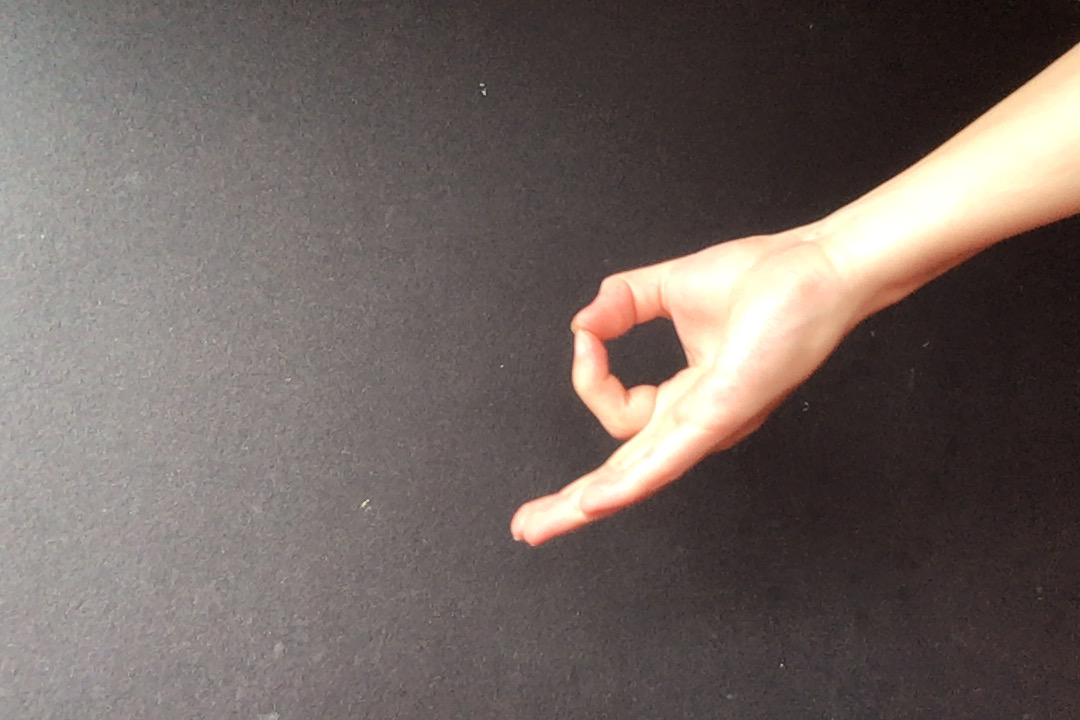oksign: (498, 226, 871, 551)
